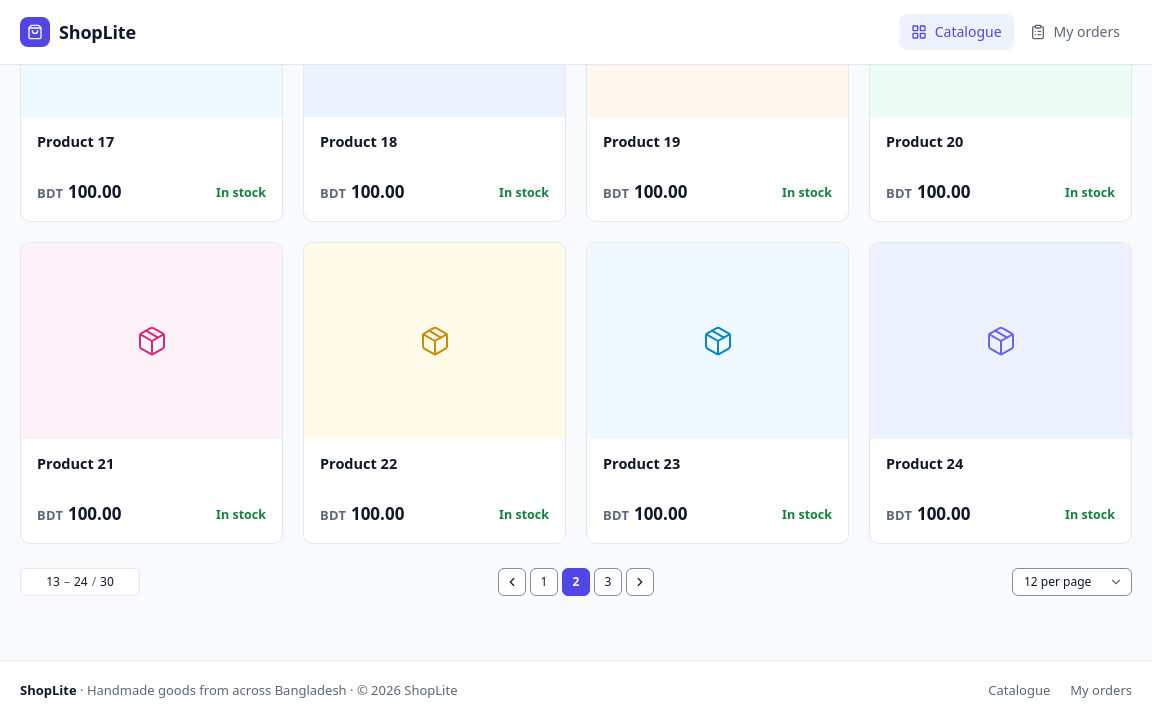
Test: catalogue pagination › changes the page size and returns to the first page
(page scrolled)
What coordinates should you click on to do the following:
click the dropdown named "Rows per page"
I would click on:
 (1072, 582)
Its box is [1012,568,1132,596].
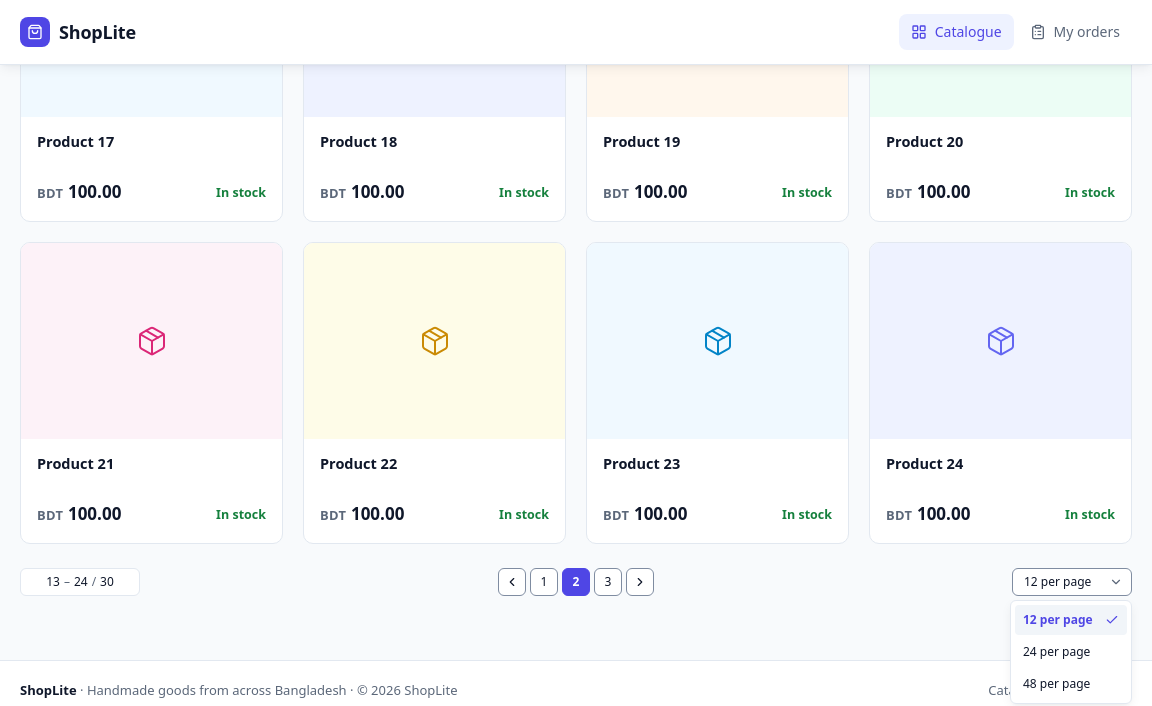
What coordinates should you click on to do the following:
click the option "24 per page"
I would click on:
 (1057, 652)
Its box is [1023,643,1090,660].
(page scrolled)
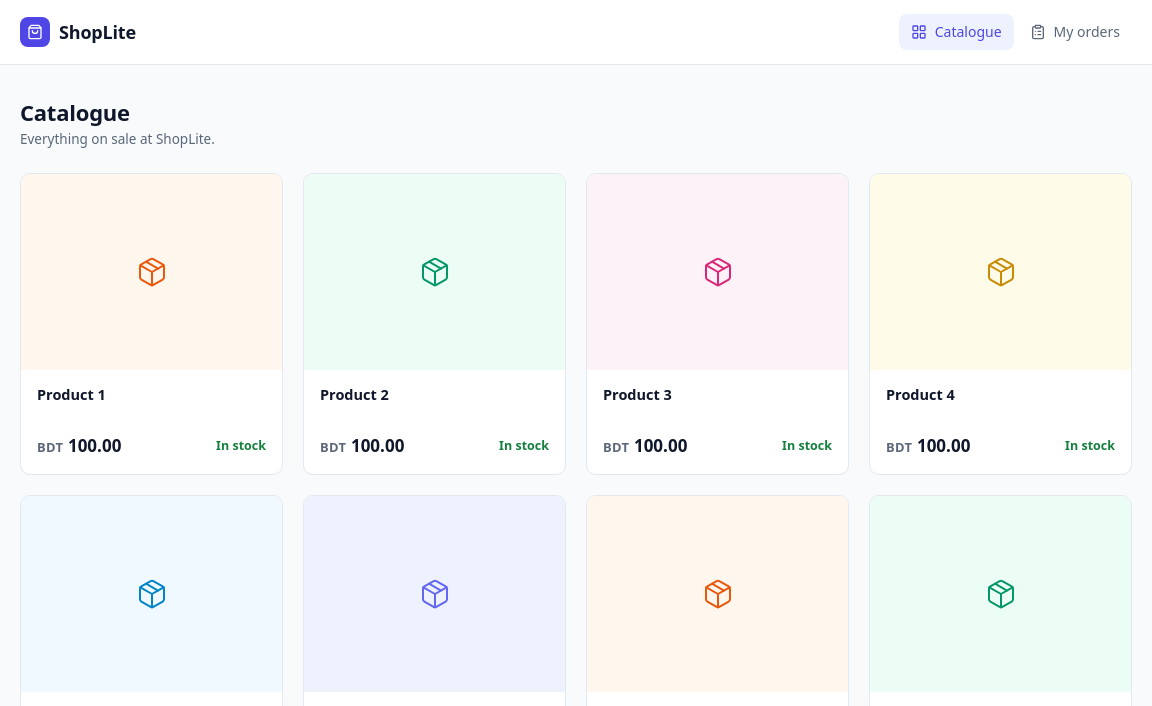
Check: the heading "Product 1" is shown, box [37,384,106,404]
